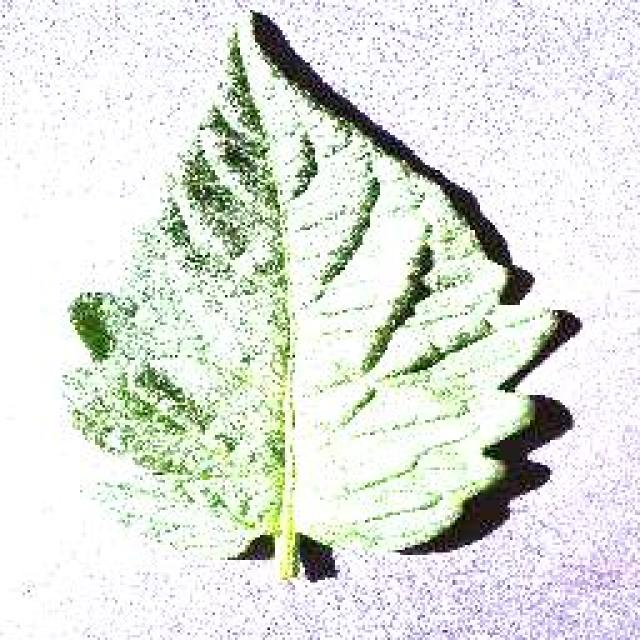Tomato___healthy: (62, 0, 559, 582)
